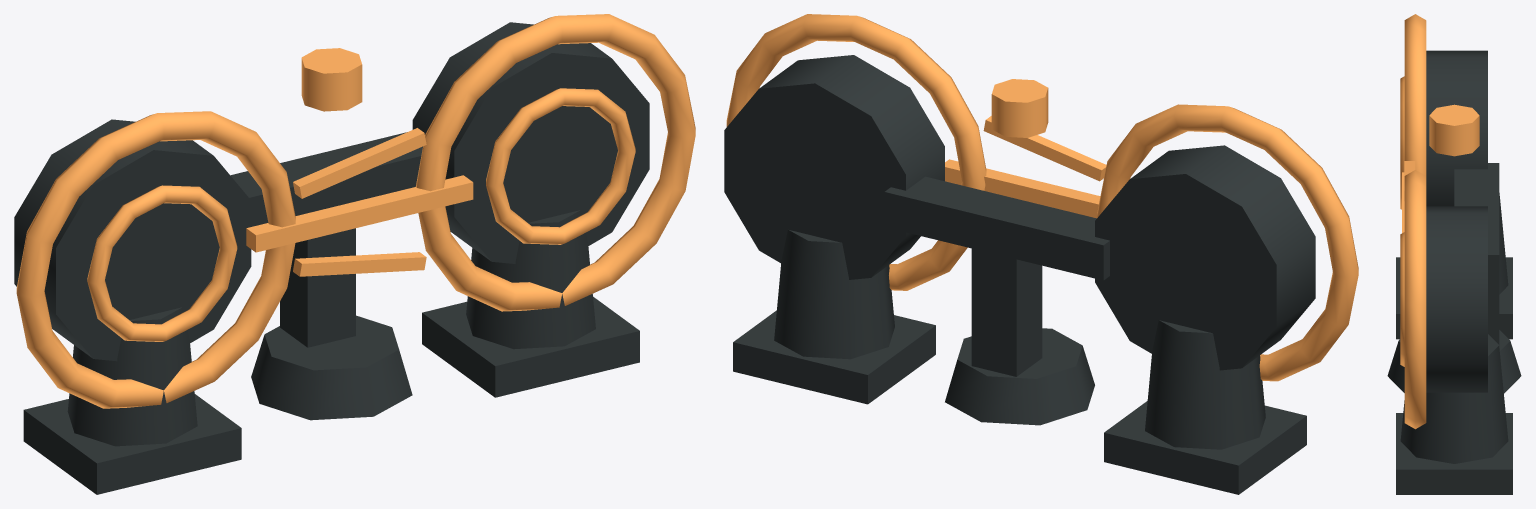
File: exhibit-project-voice-relay.v1.glb
The picture shows the model from 3 angles, left to right: view 1: azimuth 30°, elevation 25°; view 2: azimuth 150°, elevation 25°; view 3: azimuth 270°, elevation 25°; orthographic projection. The views are drawn at different scales.
Visible parts, largest first — view 1: VoiceRelayStructure, VoiceRelaySignal; view 2: VoiceRelayStructure, VoiceRelaySignal; view 3: VoiceRelayStructure, VoiceRelaySignal.
Boxes of the visible parts, box(x1,y1,x2,y2) form: VoiceRelayStructure: box(14, 22, 649, 494); VoiceRelaySignal: box(16, 14, 695, 408); VoiceRelayStructure: box(724, 55, 1315, 494); VoiceRelaySignal: box(726, 14, 1358, 381); VoiceRelayStructure: box(1387, 50, 1521, 494); VoiceRelaySignal: box(1400, 14, 1479, 429).
Size of the model in its own units: 2.25 by 1.12 by 0.48.
